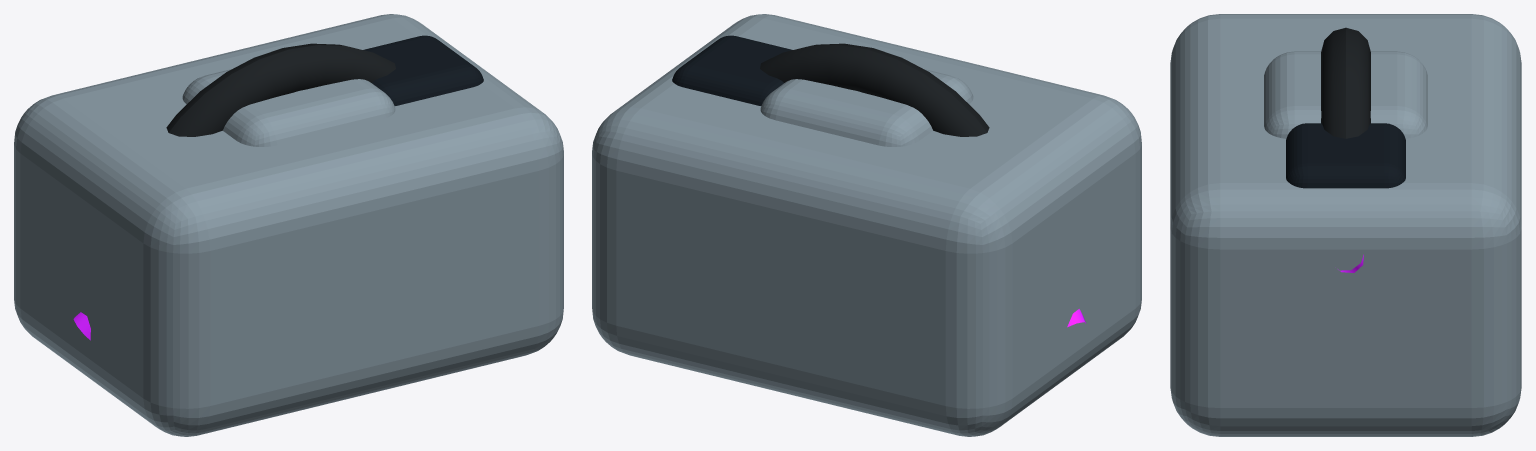
File: electrical_33.glb
3 views of the same model, side by side, from view 1: azimuth 30°, elevation 25°; view 2: azimuth 150°, elevation 25°; view 3: azimuth 270°, elevation 25° (orthographic). The views are drawn at different scales.
Visible parts, largest first — view 1: asset_mesh__electrical_1484__reference_body, asset_mesh__electrical_1510__service_element, asset_mesh__electrical_1508__sensor_body, asset_mesh__electrical_1508__connector; view 2: asset_mesh__electrical_1484__reference_body, asset_mesh__electrical_1510__service_element, asset_mesh__electrical_1508__sensor_body, asset_mesh__electrical_1508__connector; view 3: asset_mesh__electrical_1484__reference_body, asset_mesh__electrical_1508__sensor_body, asset_mesh__electrical_1508__connector, asset_mesh__electrical_1510__service_element.
Boxes of the visible parts, bbox=[...] form: asset_mesh__electrical_1484__reference_body: bbox=[14, 14, 563, 436]; asset_mesh__electrical_1510__service_element: bbox=[166, 43, 395, 136]; asset_mesh__electrical_1508__sensor_body: bbox=[182, 69, 395, 146]; asset_mesh__electrical_1508__connector: bbox=[363, 35, 483, 105]; asset_mesh__electrical_1484__reference_body: bbox=[592, 14, 1141, 436]; asset_mesh__electrical_1510__service_element: bbox=[760, 43, 989, 136]; asset_mesh__electrical_1508__sensor_body: bbox=[760, 69, 973, 146]; asset_mesh__electrical_1508__connector: bbox=[672, 35, 792, 105]; asset_mesh__electrical_1484__reference_body: bbox=[1170, 14, 1521, 436]; asset_mesh__electrical_1508__sensor_body: bbox=[1264, 51, 1427, 138]; asset_mesh__electrical_1508__connector: bbox=[1286, 123, 1405, 188]; asset_mesh__electrical_1510__service_element: bbox=[1321, 27, 1370, 138].
Size of the model in its own units: 1.11 by 0.8732 by 0.7728.
